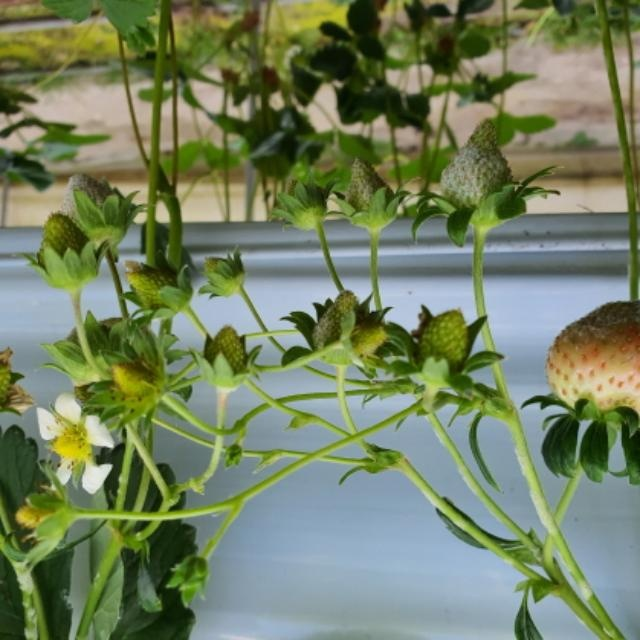Powdery Mildew Fruit: (437, 121, 516, 219), (64, 171, 129, 239), (342, 157, 398, 225)
